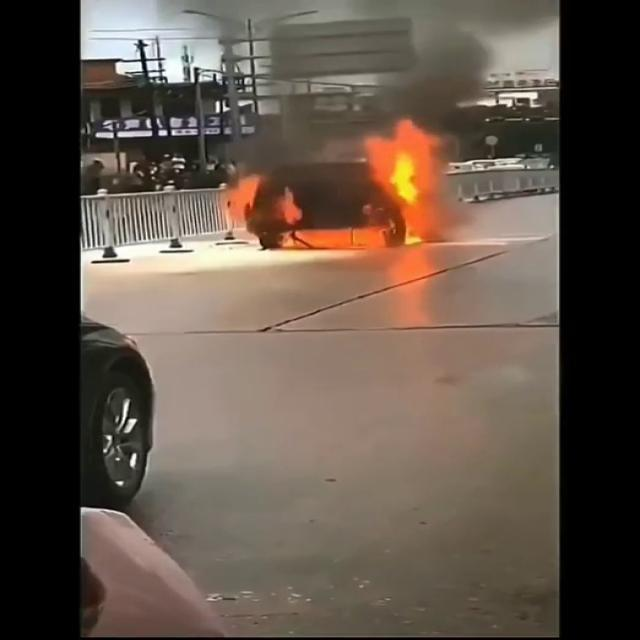Fire: (358, 121, 451, 243), (220, 170, 308, 243)
Smoke: (213, 0, 557, 154)
